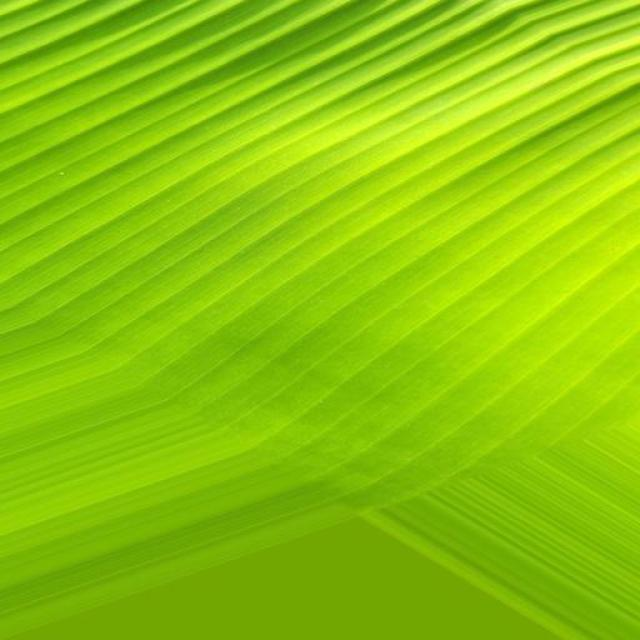Black_leaf_spot: (0, 0, 621, 535)
